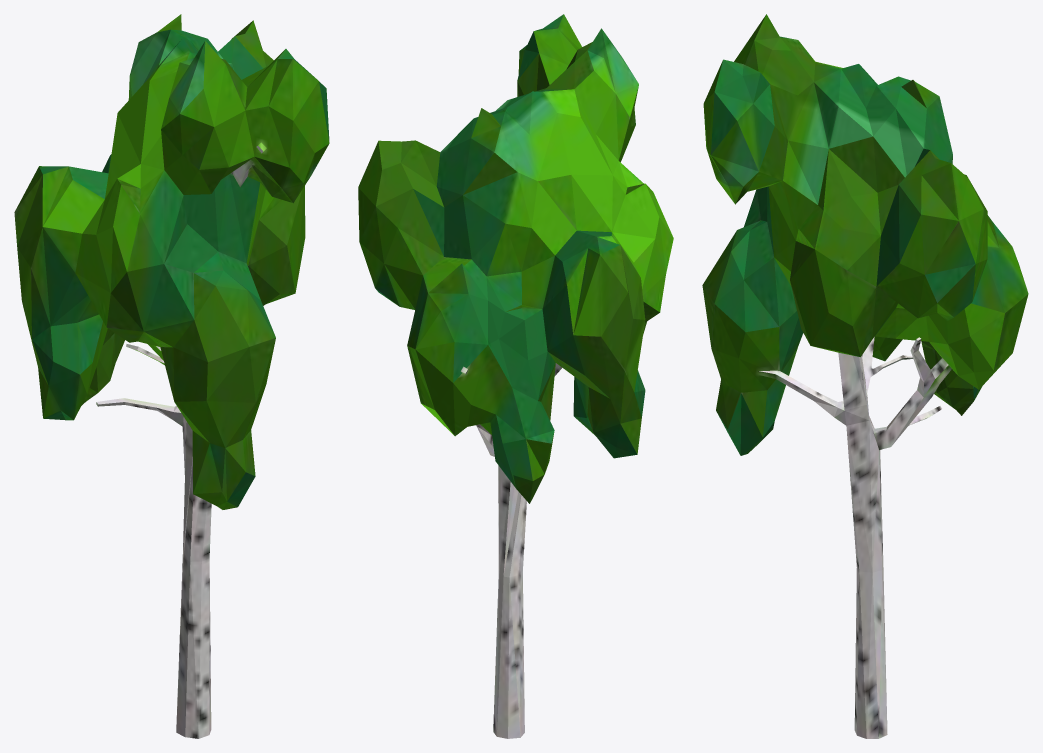
File: tree5.glb
The picture shows the model from 3 angles, left to right: view 1: azimuth 30°, elevation 25°; view 2: azimuth 150°, elevation 25°; view 3: azimuth 270°, elevation 25°; orthographic projection. The views are drawn at different scales.
Parts seen in each view (by area): view 1: car; view 2: car; view 3: car.
Boxes of the visible parts, x1,y1,x2,y2 form: car: (14,14,329,738); car: (358,14,673,738); car: (702,14,1028,738).
Bounding box in the file's own units: 0.8389 × 2.13 × 0.9014.
Materials: 1 (1 with a texture image).
